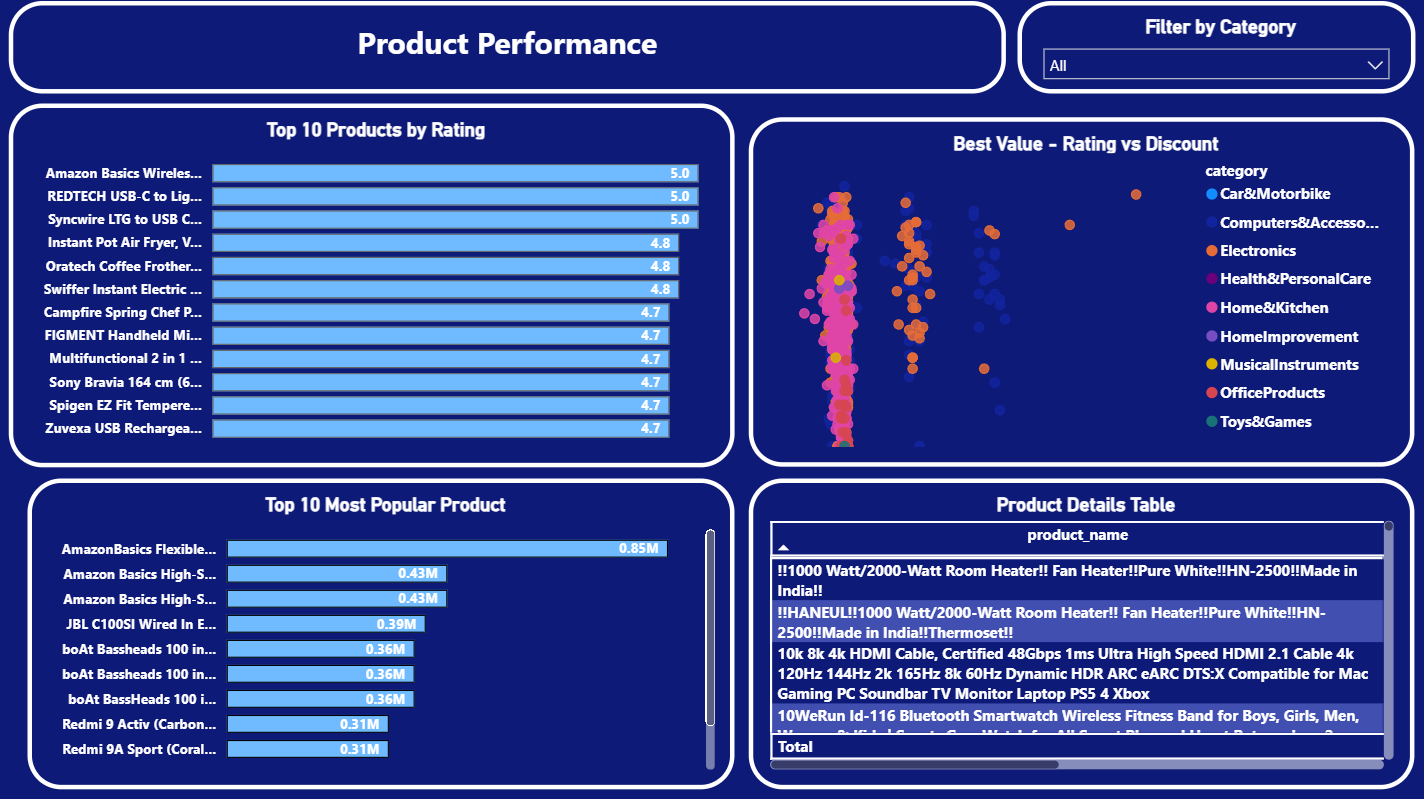

Layout of this report page (visuals, bound fields, positions):
{"tool":"powerbi","page":{"name":"Product Performance 🏆","canvas":[1280,720],"ordinal":4},"visuals":[{"type":"textbox","box":[8.2,4.1,887.8,82.3],"z":0},{"type":"clusteredBarChart","title":"Top 10 Products by Rating","fields":{"Category":["amazon_db amazon_products.product_name"],"Y":["Avg(amazon_db amazon_products.rating)"]},"box":[8.2,96.1,646.3,323.8],"z":1000},{"type":"scatterChart","title":"Best Value - Rating vs Discount","fields":{"Category":["amazon_db amazon_products.product_name"],"X":["Sum(amazon_db amazon_products.rating)"],"Y":["Avg(amazon_db amazon_products.discount_percentage)"],"Series":["amazon_db amazon_products.category"]},"box":[666.9,108.4,592.8,311.5],"z":2000},{"type":"clusteredBarChart","title":"Top 10 Most Popular Product","fields":{"Category":["amazon_db amazon_products.product_name"],"Y":["Sum(amazon_db amazon_products.rating_count)"]},"box":[24.7,429.5,629.8,277.2],"z":3000},{"type":"tableEx","title":"Product Details Table","fields":{"Values":["amazon_db amazon_products.product_name","amazon_db amazon_products.category","Sum(amazon_db amazon_products.rating)","Sum(amazon_db amazon_products.discounted_price)","Sum(amazon_db amazon_products.discount_percentage)"]},"box":[666.9,429.5,592.8,277.2],"z":4000},{"type":"slicer","title":"Filter by Category","fields":{"Values":["amazon_db amazon_products.category"]},"box":[905.7,4.1,354,82.3],"z":5000}]}

Visuals, with their boxes in screenshot pixels (x1, y1, x2, y2), scaled from the page's 1280x720 canvas onto the 1424x799 screenshot:
textbox: bbox=[9, 5, 997, 96]
"Top 10 Products by Rating" clusteredBarChart: bbox=[9, 107, 728, 466]
"Best Value - Rating vs Discount" scatterChart: bbox=[742, 120, 1401, 466]
"Top 10 Most Popular Product" clusteredBarChart: bbox=[27, 477, 728, 784]
"Product Details Table" tableEx: bbox=[742, 477, 1401, 784]
"Filter by Category" slicer: bbox=[1008, 5, 1401, 96]
